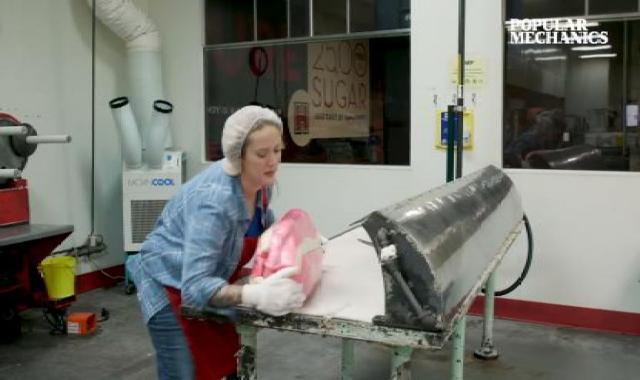hairnet: (202, 103, 300, 176)
